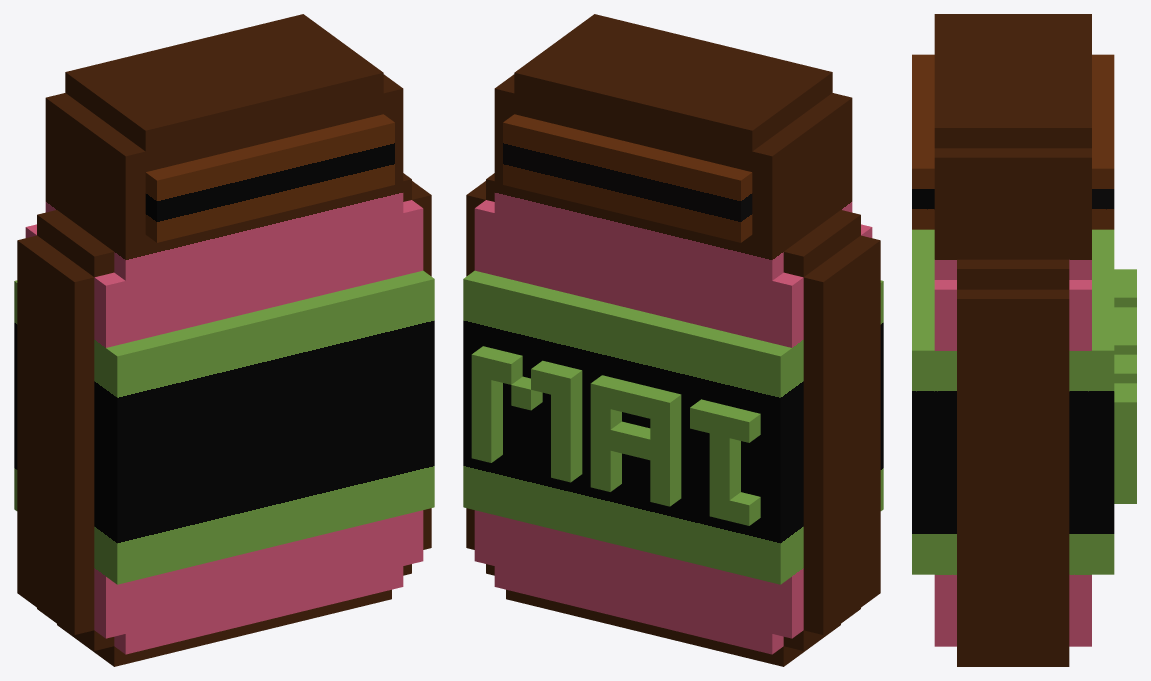
The model's file is jam1.dae.
3 views of the same model, side by side, from view 1: azimuth 30°, elevation 25°; view 2: azimuth 150°, elevation 25°; view 3: azimuth 270°, elevation 25° (orthographic).
Visible parts, largest first — view 1: jam1; view 2: jam1; view 3: jam1.
Part boxes in pixels (<box>): jam1: <box>14,14,434,666</box>; jam1: <box>463,14,883,666</box>; jam1: <box>912,14,1136,666</box>.
Size of the model in its own units: 1.8 by 1 by 2.6.
Materials: 1 (1 with a texture image).
